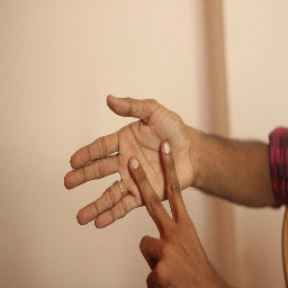N: (61, 93, 208, 288)
